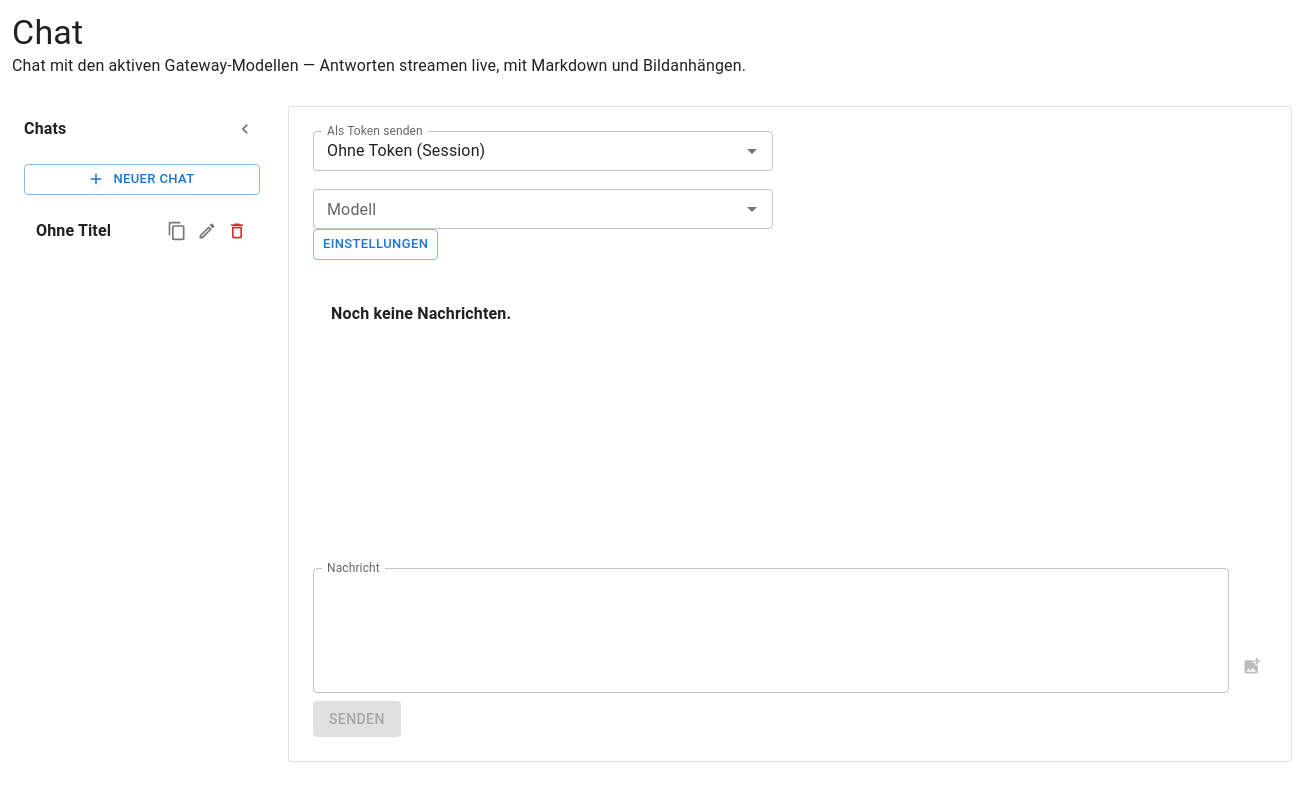
Test: shows no red indicator once an available model is picked and enables Send
Expected: the text "Ohne Titel" is shown, [36,221,111,240]
Press the mouse on the dropdown labelled "Modell" at (526, 209), box [319,195,734,223]
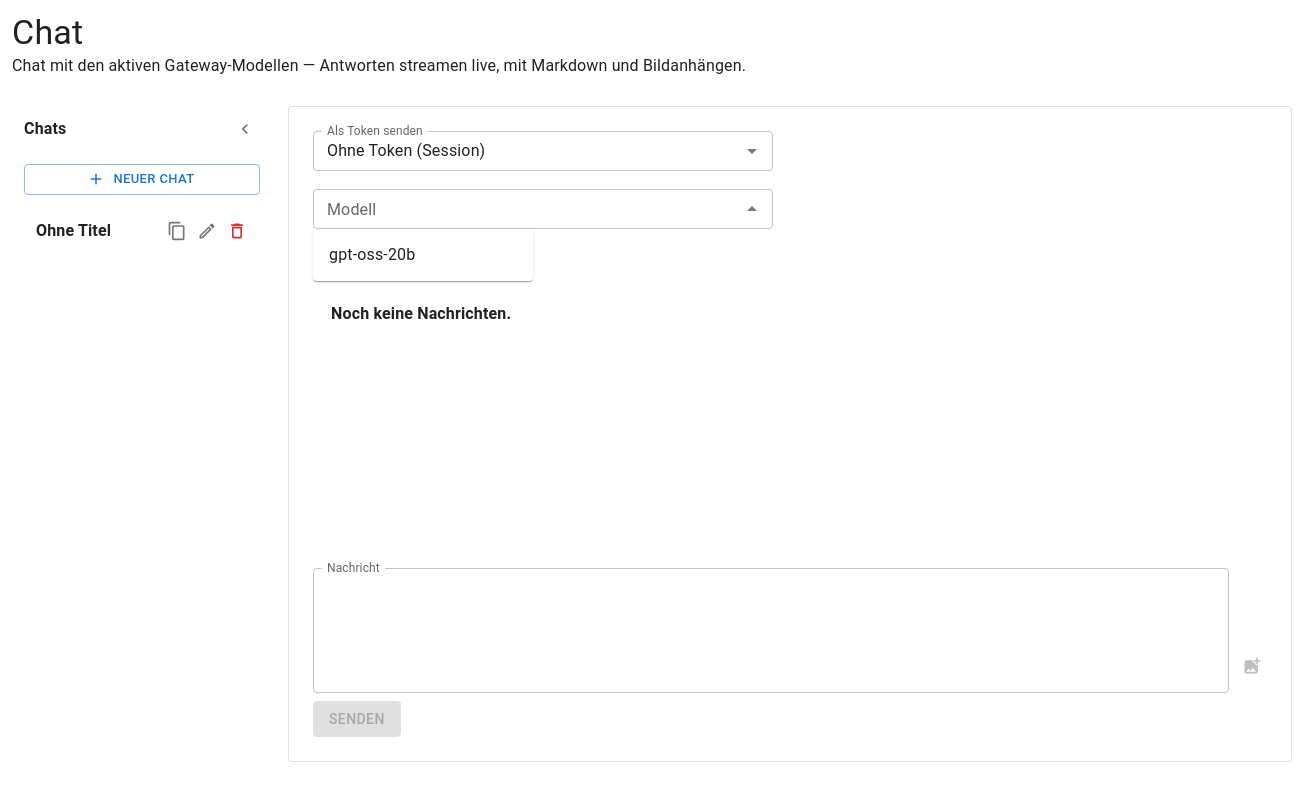
Click the option "gpt-oss-20b" at (372, 254), box [329,245,415,264]
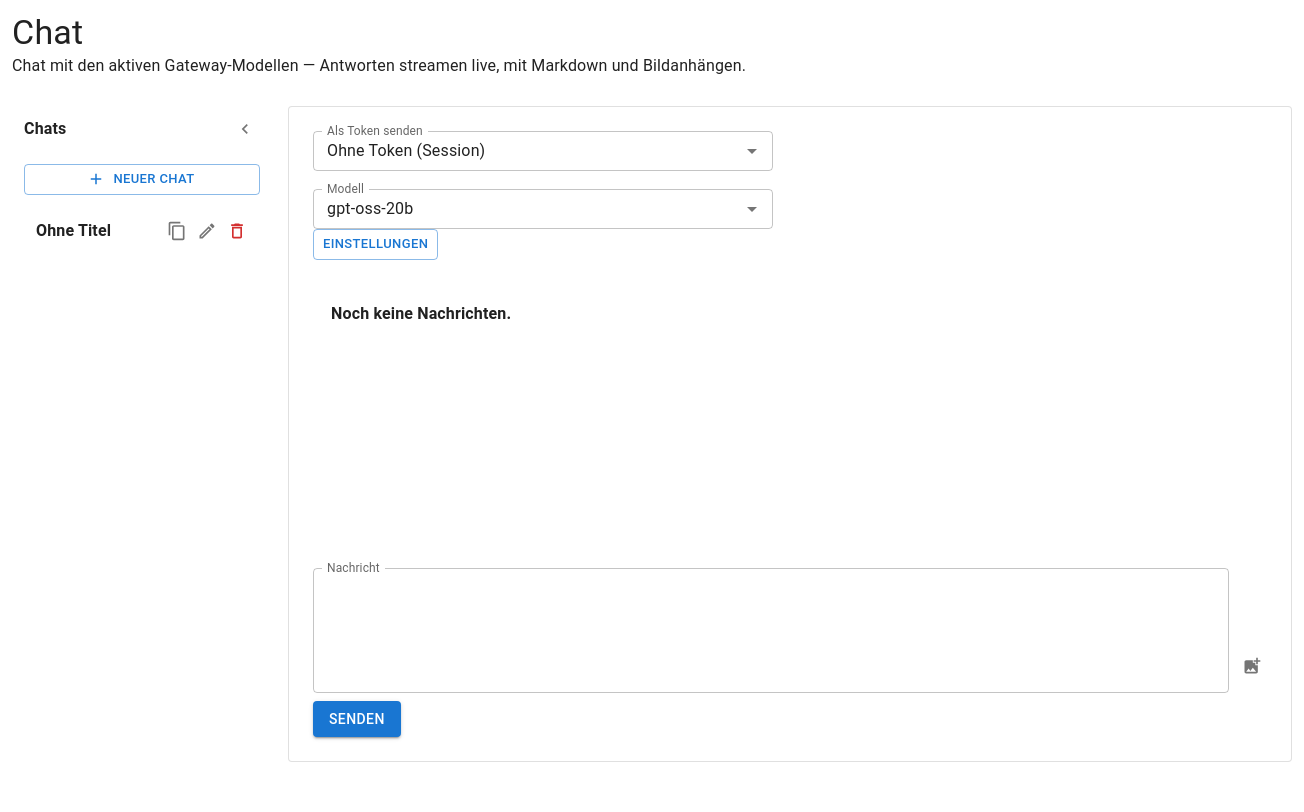
Now the button "Senden" is enabled, box [313,701,401,737]
